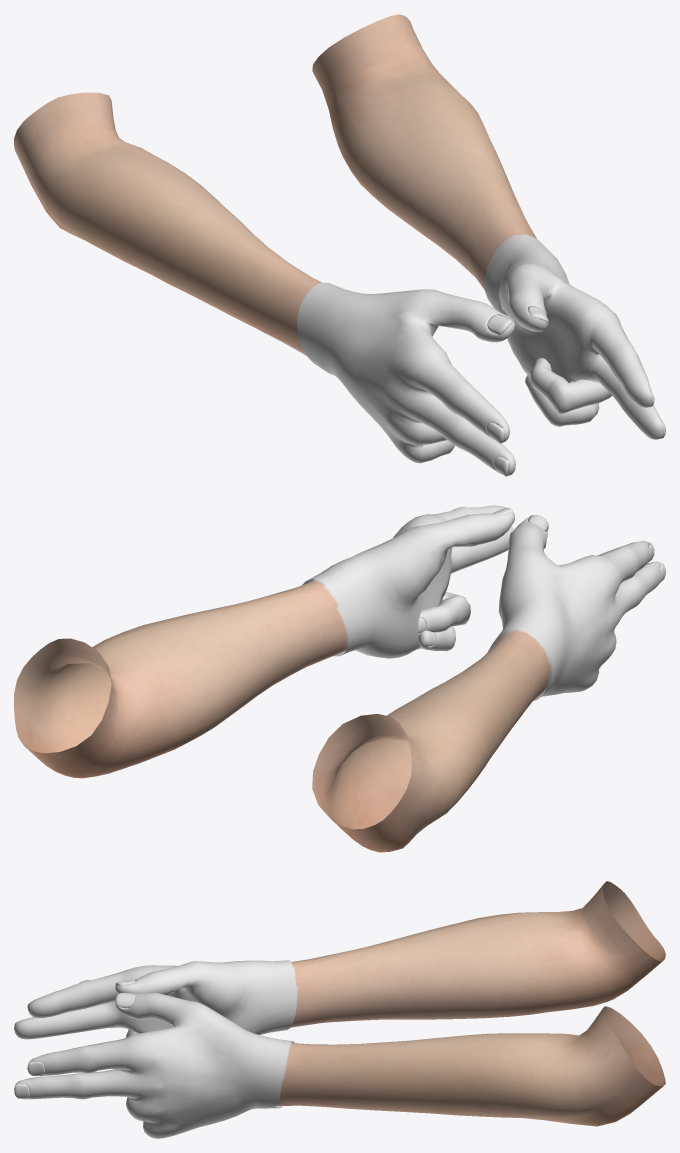
The picture shows the model from 3 angles, top to bottom: view 1: azimuth 30°, elevation 25°; view 2: azimuth 150°, elevation 25°; view 3: azimuth 270°, elevation 25°; orthographic projection. The views are drawn at different scales.
Parts seen in each view (by area): view 1: hushi02_xiezi_model.001; view 2: hushi02_xiezi_model.001; view 3: hushi02_xiezi_model.001.
Part boxes in pixels (x1,y1,x2,y2): hushi02_xiezi_model.001: (14, 14, 665, 476); hushi02_xiezi_model.001: (14, 505, 665, 852); hushi02_xiezi_model.001: (14, 881, 665, 1138).
Size of the model in its own units: 27.93 by 12.55 by 47.49.
Materials: 2 (1 with a texture image).
